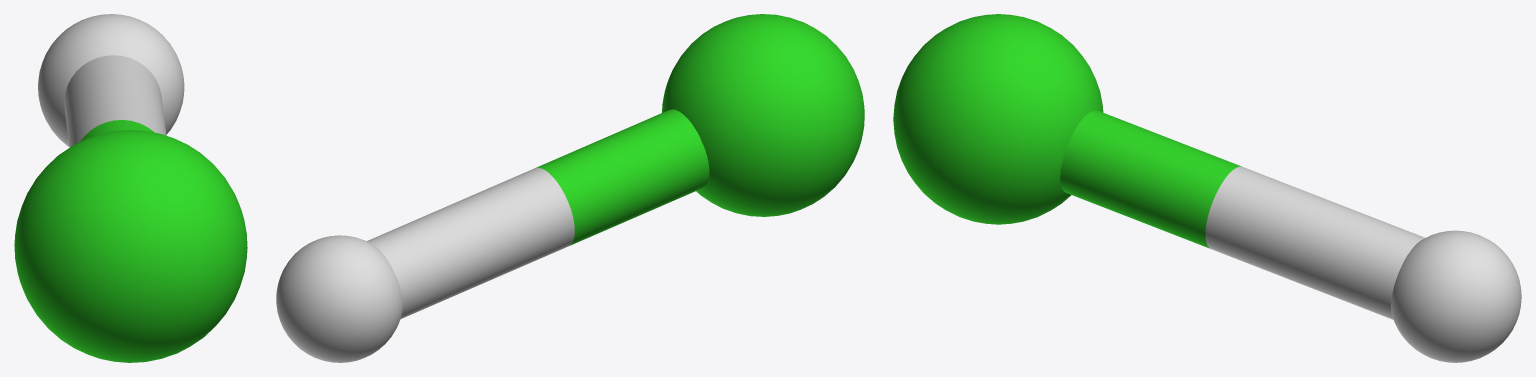
File: Hydrochloric acid.glb
The picture shows the model from 3 angles, left to right: view 1: azimuth 30°, elevation 25°; view 2: azimuth 150°, elevation 25°; view 3: azimuth 270°, elevation 25°; orthographic projection. The views are drawn at different scales.
Size of the model in its own units: 1.03 by 0.6328 by 1.57.
